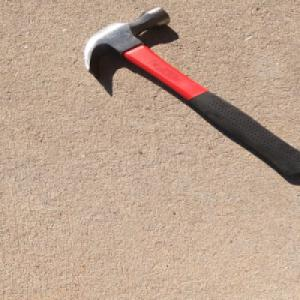Hammer: (81, 9, 300, 183)
